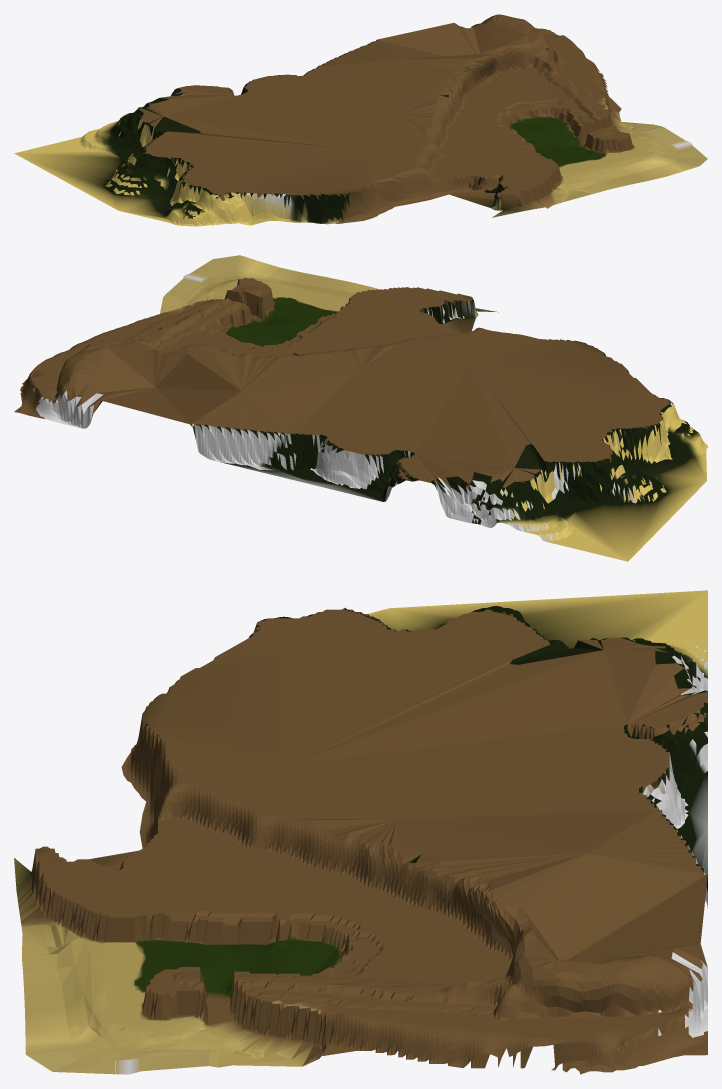
File: Terrain.fbx
The picture shows the model from 3 angles, top to bottom: view 1: azimuth 30°, elevation 25°; view 2: azimuth 150°, elevation 25°; view 3: azimuth 270°, elevation 25°; orthographic projection. The views are drawn at different scales.
Parts seen in each view (by area): view 1: Terrain; view 2: Terrain; view 3: Terrain.
Boxes of the visible parts, x1,y1,x2,y2 form: Terrain: (14,14,707,226); Terrain: (14,255,707,561); Terrain: (14,590,707,1074).
Size of the model in its own units: 87877 by 7736 by 53231.
